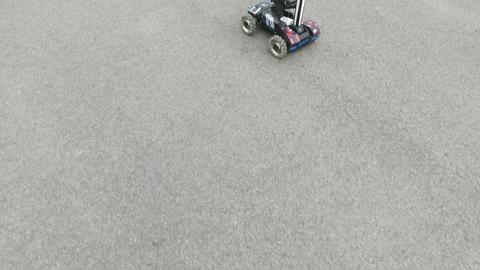chariot: (239, 1, 321, 58)
